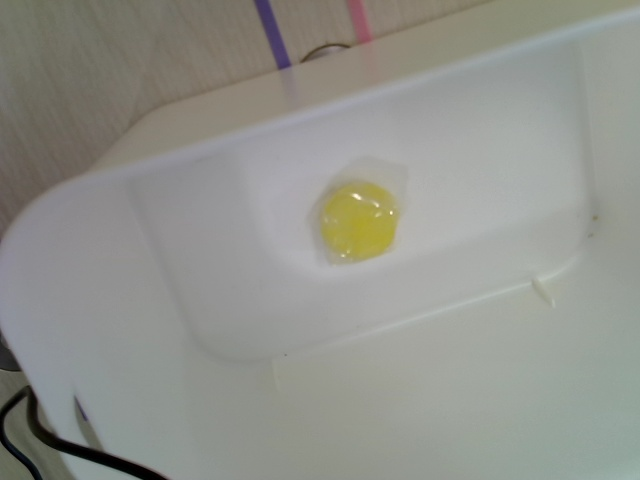씨앗: (316, 179, 401, 263)
